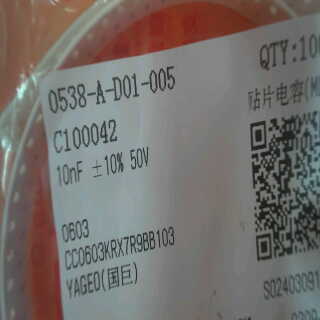10nF: (48, 156, 88, 186)
